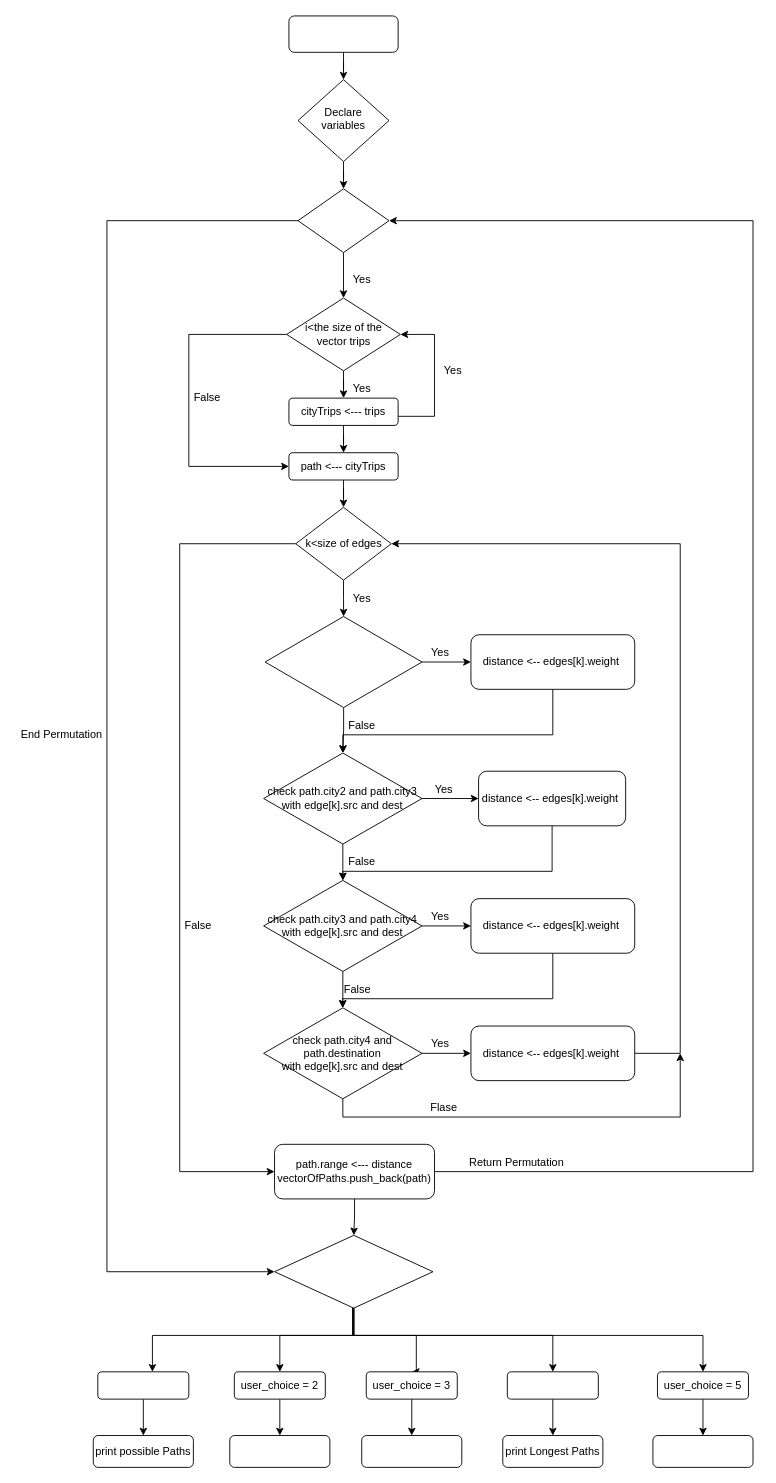
Some shapes in this 776 by 1483 pixel diagram are drawn without their labels. Each missing label, with the centre of its shape:
"check path.ctiy1 and path.city2 with edge[k].dest" belongs at point (343, 662).
"do permutation" belongs at point (343, 220).
"Exit" belongs at point (702, 1451).
"print Lowest_cost Paths" belongs at point (411, 1451).
"print shortest Paths" belongs at point (279, 1451).
"read user_choice from 1-5" belongs at point (353, 1271).
"Start" belongs at point (343, 33).
"user_choice = 1" belongs at point (143, 1385).
"user_choice = 4" belongs at point (552, 1385).
